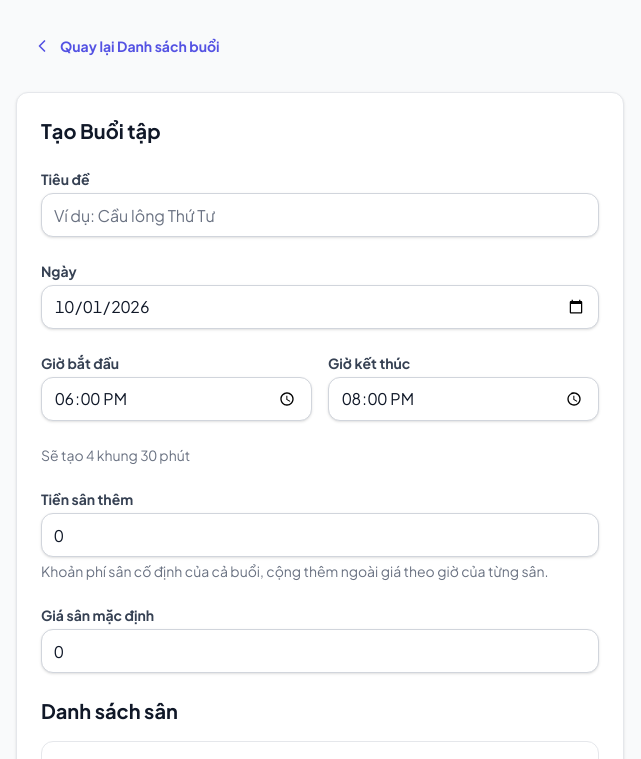
CreateSessionView (I/O matrix: Create submit) › disabled while loading
Type "Buổi test" into the field with id "title" at [320, 215], box [41, 193, 599, 237]
(page scrolled)
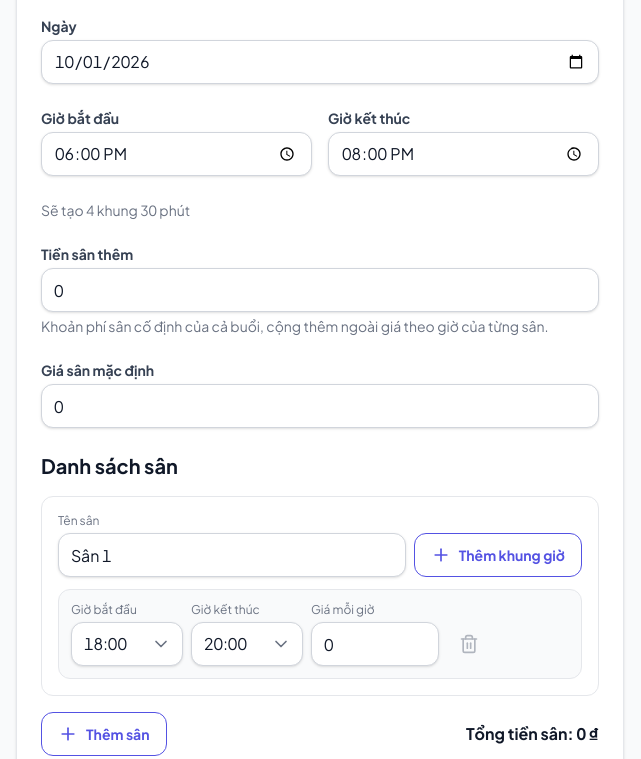
Submit the form
(page scrolled)
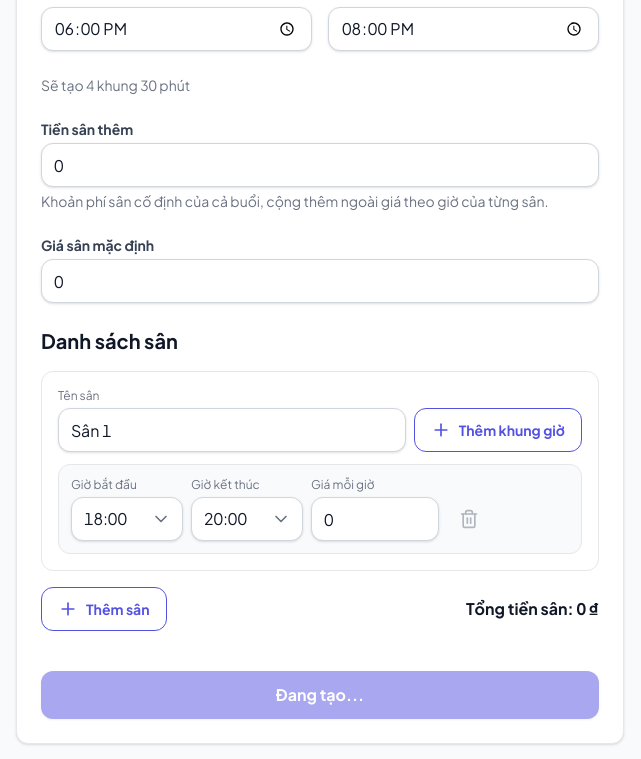
Expected: the submit button is disabled, [41, 671, 599, 719]
